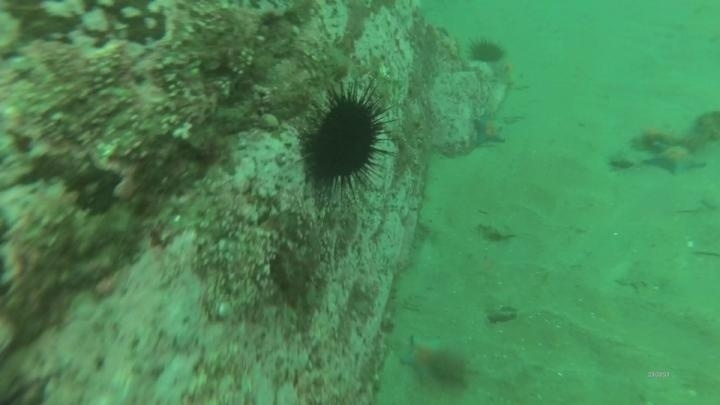echinus: (298, 84, 394, 196), (426, 348, 472, 390), (466, 35, 507, 67)
starfish: (396, 332, 448, 386), (642, 142, 708, 179), (469, 110, 510, 149), (628, 125, 675, 153)
